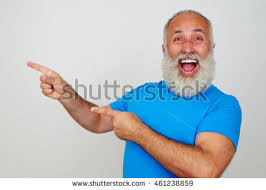hand: (18, 55, 80, 102), (86, 103, 146, 148)
